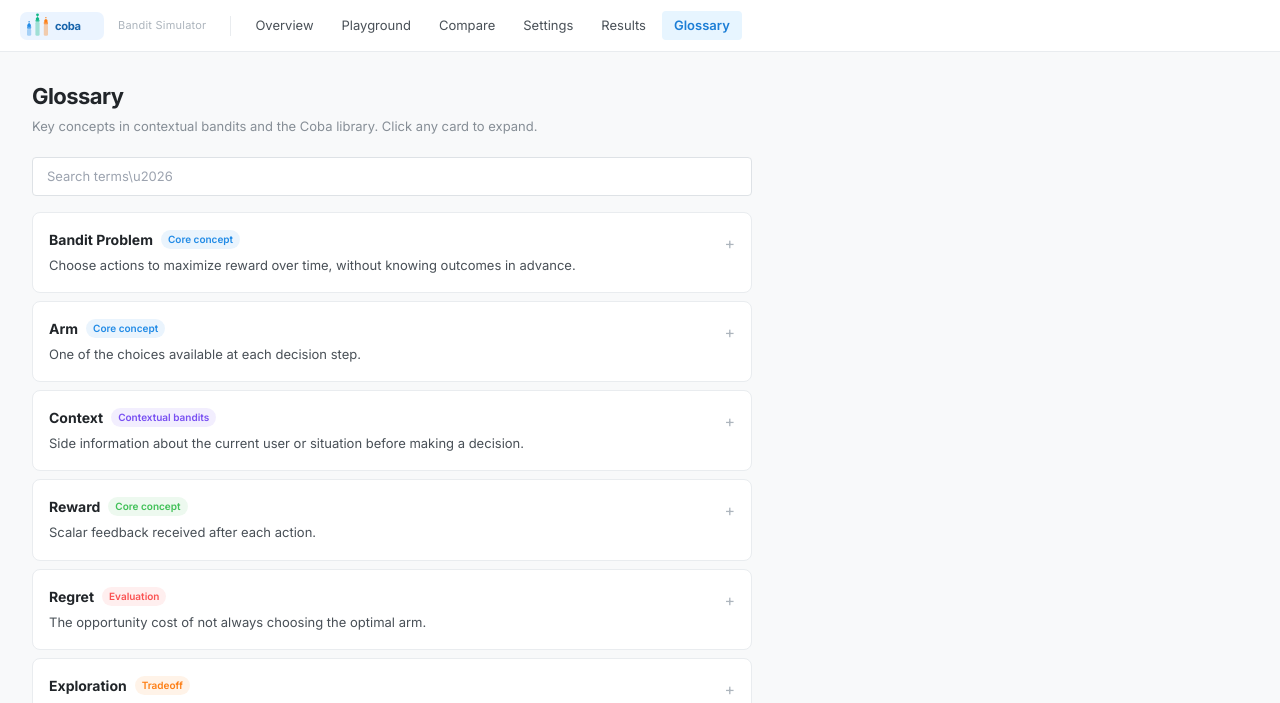
Test: GlossaryPage › expands card detail on click
The width and height of the screenshot is (1280, 703).
Click the text "Bandit Problem" at (101, 240), box 49,229 -> 153,250
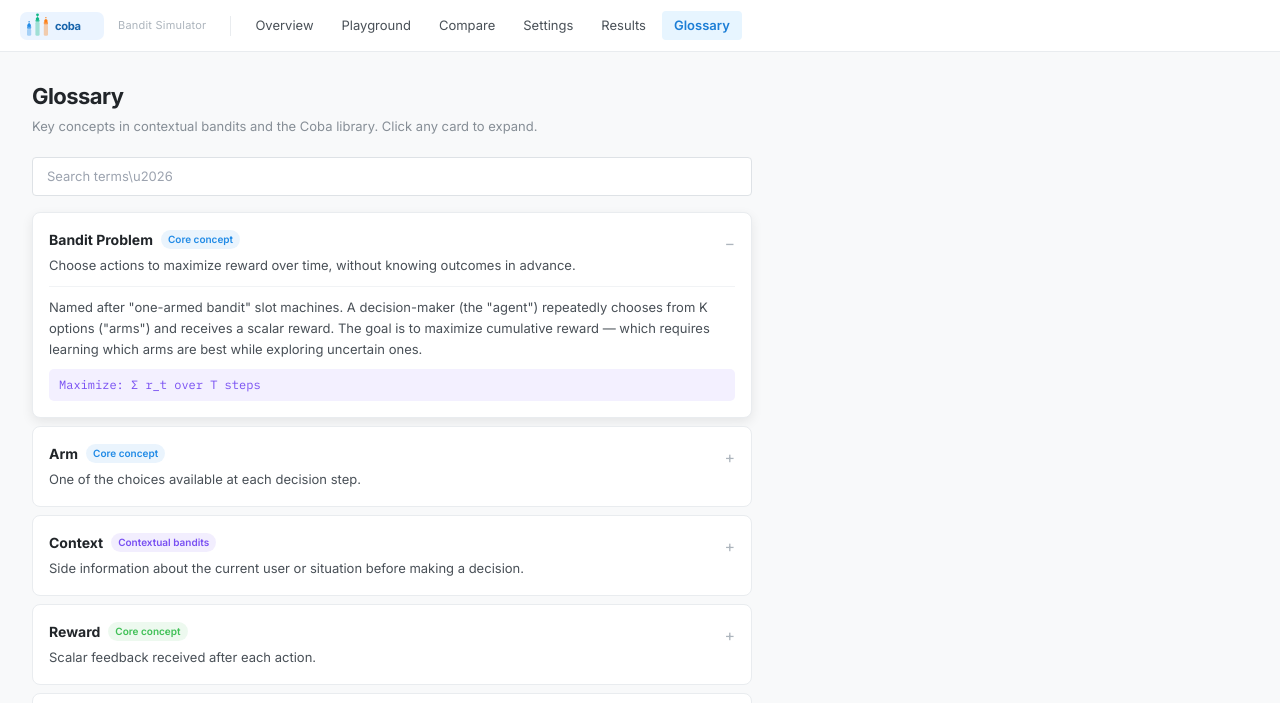
Expected: the text "Named after \"one-armed bandit\" slot machines" is shown, 49,299 -> 710,357
